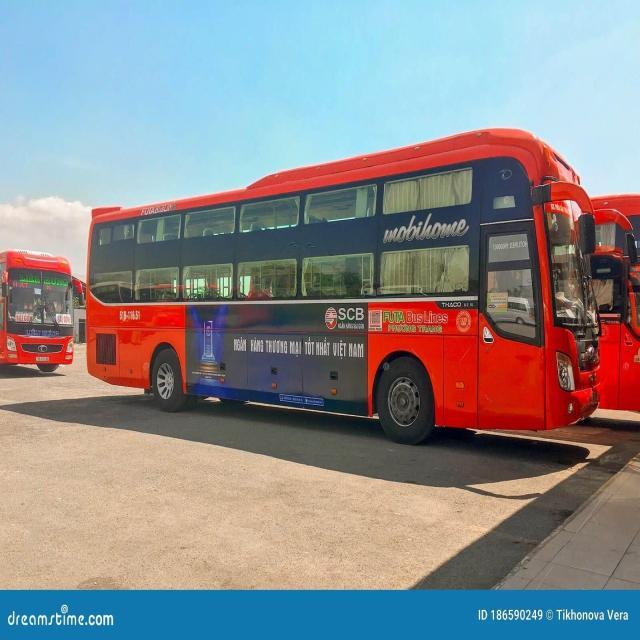bus: (88, 129, 640, 442), (0, 249, 84, 372)
